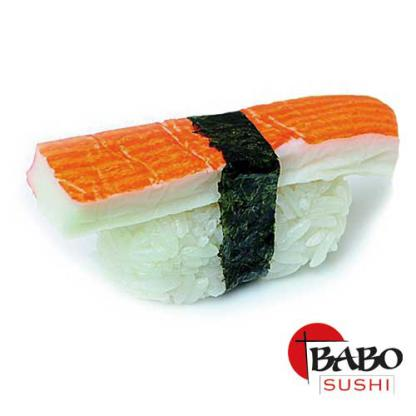kani: (17, 89, 404, 315)
